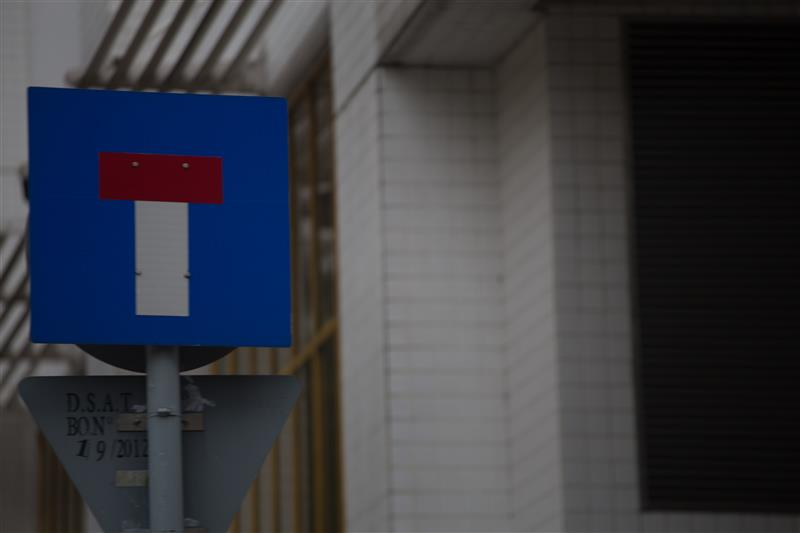deadEnd: (21, 80, 295, 350)
